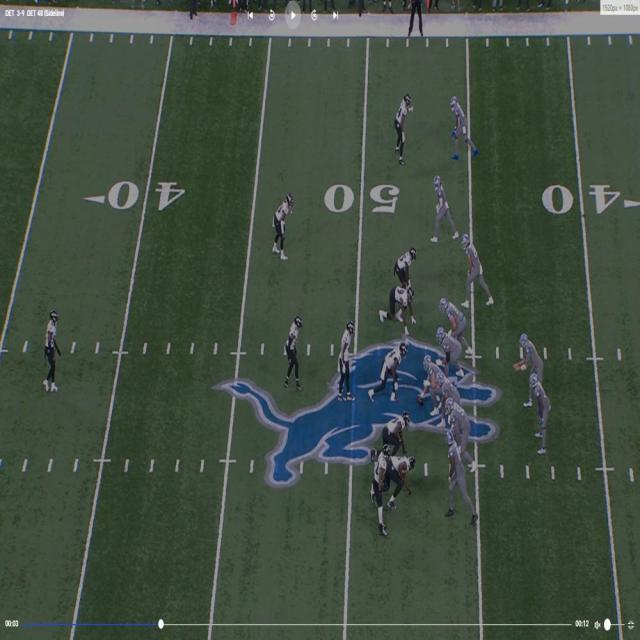center: (416, 351, 444, 405)
db: (370, 446, 392, 514), (271, 196, 291, 258), (47, 310, 61, 387), (397, 92, 413, 155)
lb: (372, 343, 409, 399), (286, 318, 302, 389), (341, 322, 358, 388), (393, 248, 419, 287)
qb: (514, 330, 544, 374)
skill: (530, 378, 550, 468), (465, 230, 489, 304), (431, 177, 455, 243), (452, 95, 472, 155)
